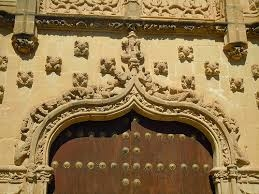arco-conopial: (31, 76, 233, 141)
